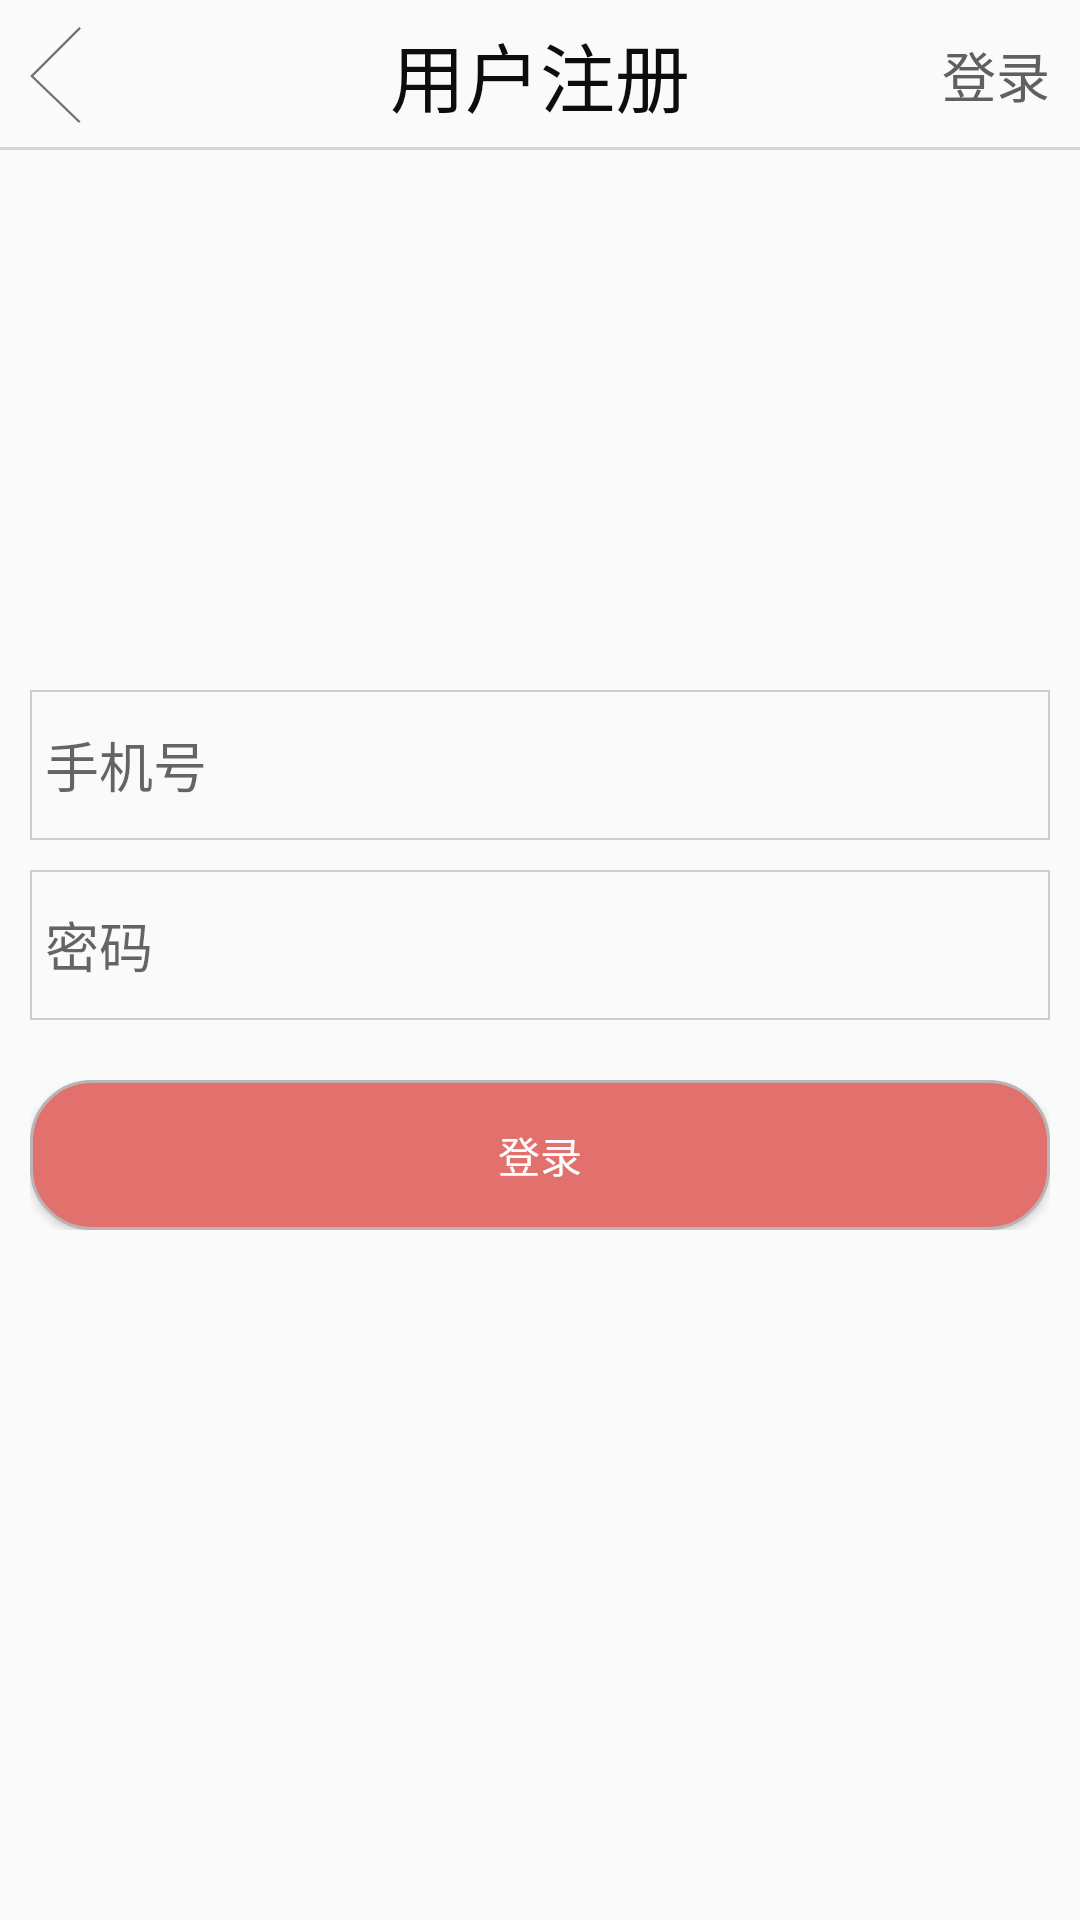

Screen size 1080x1920. Icon name, then its box in pixels as (x1, y1, x2, y2):
back: (30, 27, 81, 123)
